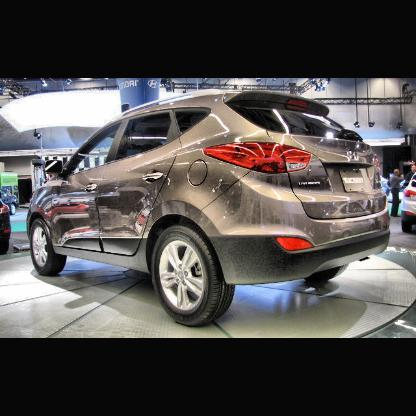Hyundai Tucson SUV 2012: (27, 89, 395, 325)
